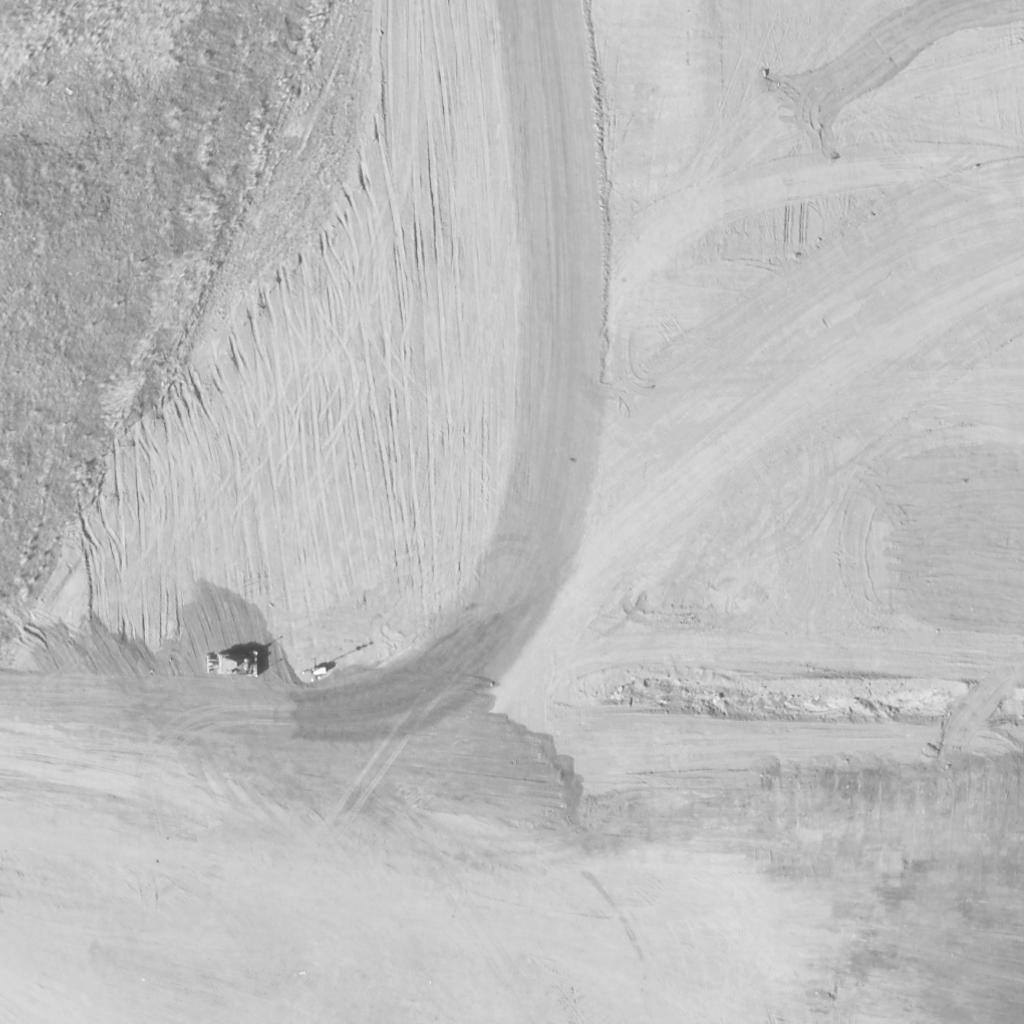vehicle: (203, 651, 261, 677)
